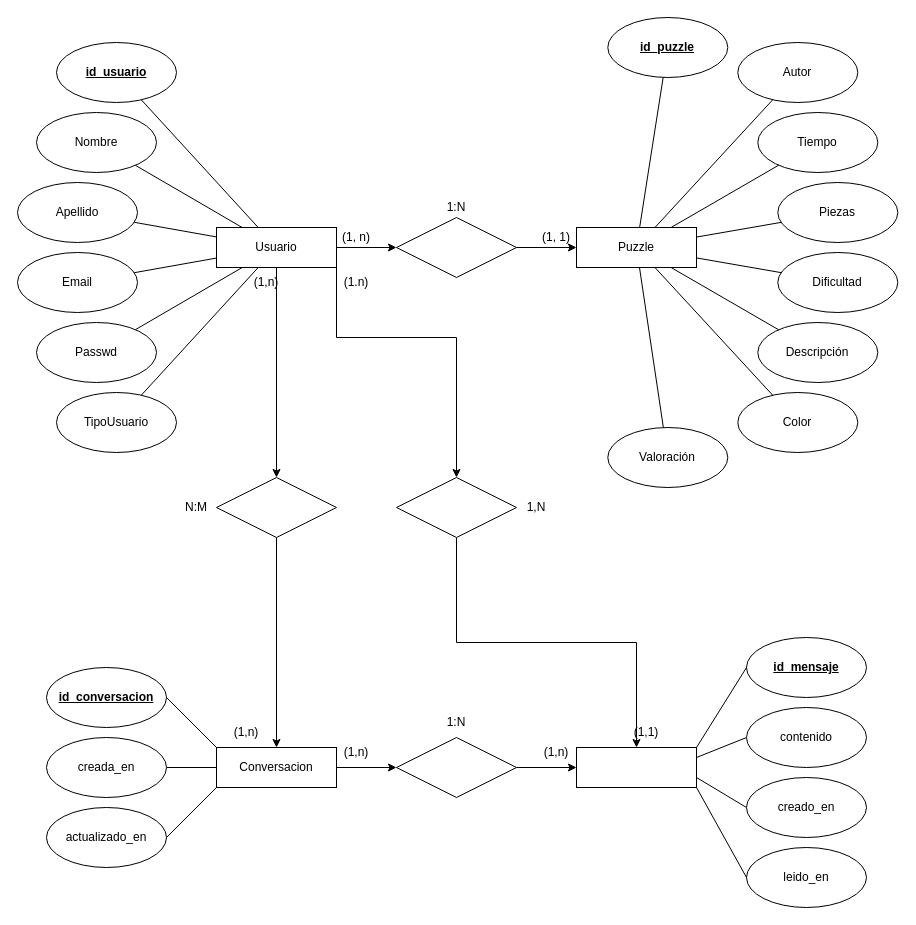
The diagram is 916 pixels wide and 925 high, and some of its shapes have lost their labels. The shapes that lost their labels are listed below. From the top down, each one's box as (x1, y1, x2, y2) in pixels, then its label:
(396, 216, 516, 278): Tiene
(216, 476, 336, 538): Participa
(396, 476, 516, 538): Envia
(396, 736, 516, 798): Contiene
(576, 746, 696, 788): Mensajes
